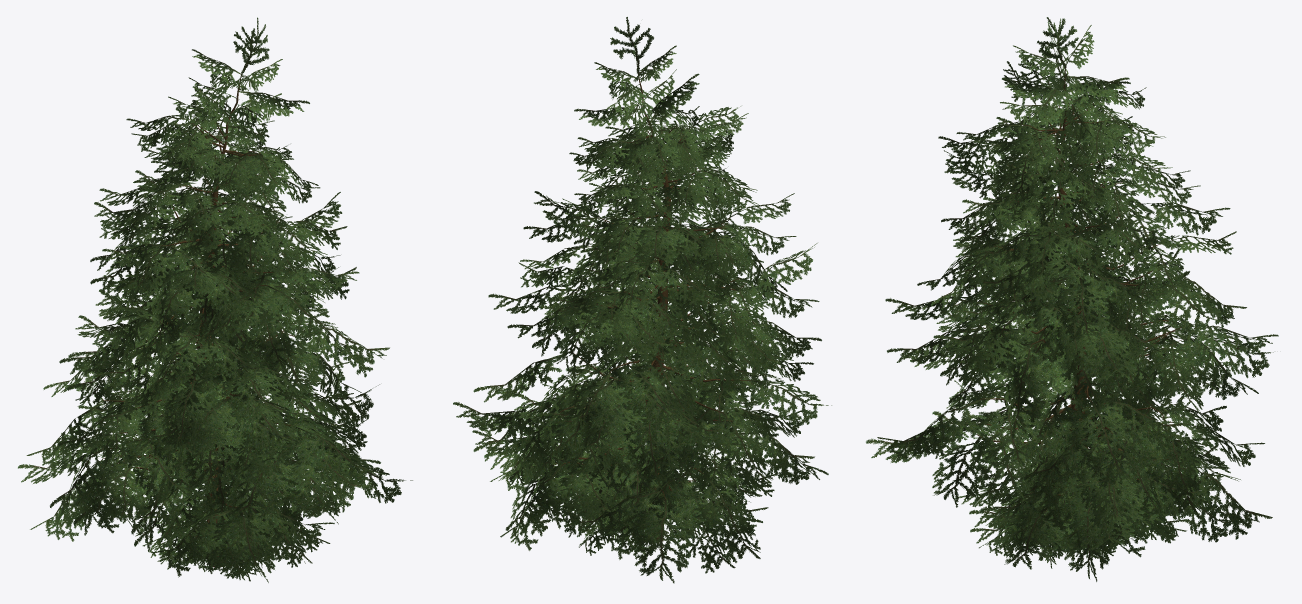
The model's file is baum_fichte_4_lod0.glb.
3 renders of one model, left to right at view 1: azimuth 30°, elevation 25°; view 2: azimuth 150°, elevation 25°; view 3: azimuth 270°, elevation 25°, orthographic. The views are drawn at different scales.
Visible parts, largest first — view 1: Krone, Stamm; view 2: Krone, Stamm; view 3: Krone, Stamm.
Boxes of the visible parts, x1,y1,x2,y2 form: Krone: [18, 17, 412, 582]; Stamm: [102, 76, 296, 567]; Krone: [453, 17, 831, 583]; Stamm: [554, 73, 750, 542]; Krone: [866, 17, 1278, 581]; Stamm: [976, 68, 1182, 497].
Size of the model in its own units: 9.27 by 13 by 9.1.
Materials: 2 (2 with a texture image).
